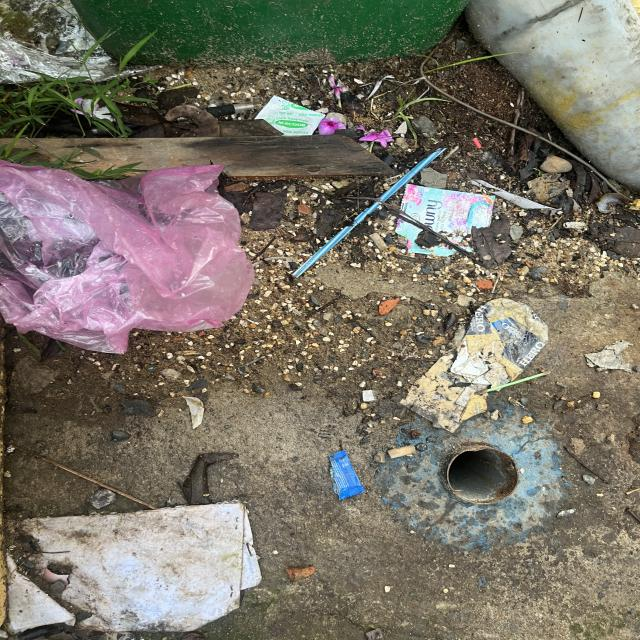bag: (0, 163, 256, 355)
drinking straw: (290, 147, 449, 278)
packet: (394, 182, 496, 258), (253, 94, 328, 138), (328, 449, 367, 501)
paper: (6, 498, 264, 636)
